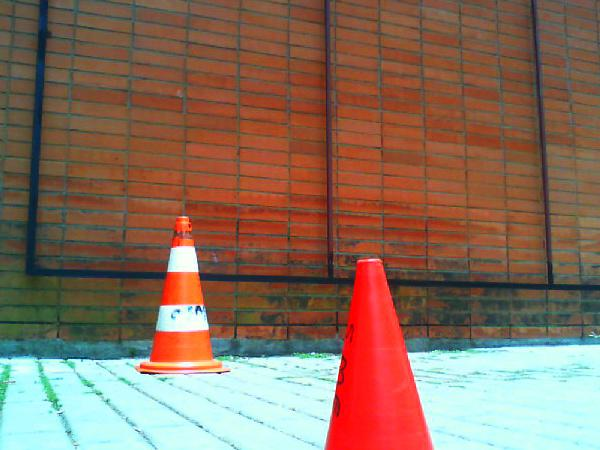0 cone: (314, 260, 448, 450), (134, 216, 234, 374)
